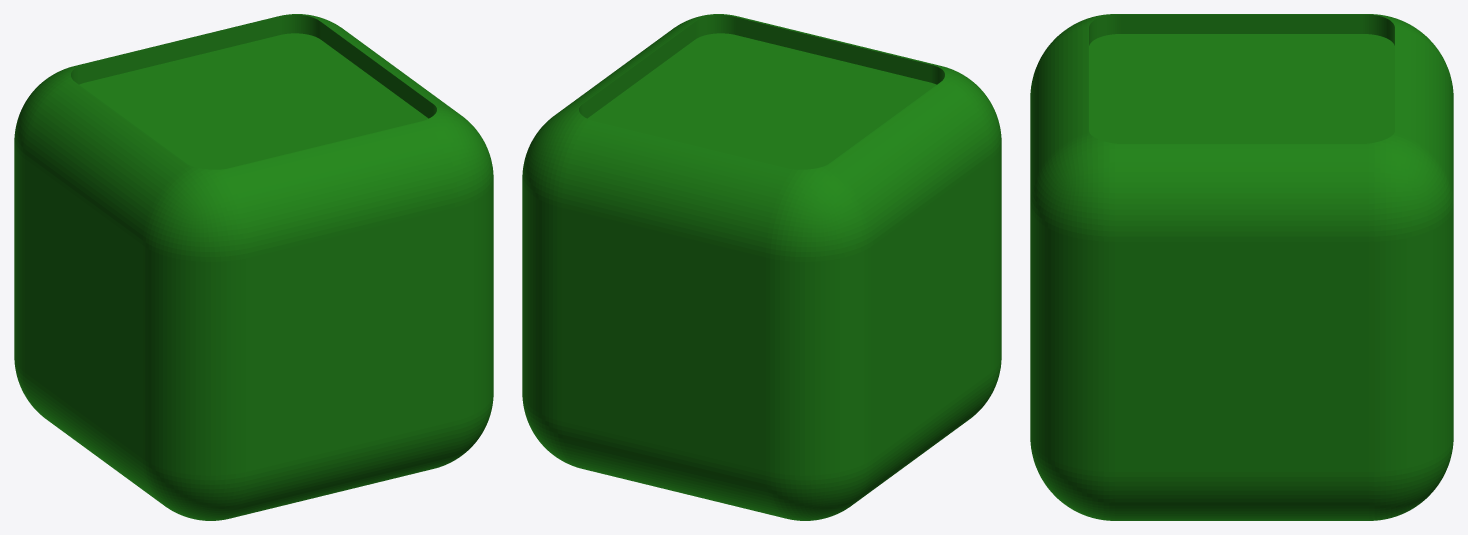
3 views of the same model, side by side, from view 1: azimuth 30°, elevation 25°; view 2: azimuth 150°, elevation 25°; view 3: azimuth 270°, elevation 25° (orthographic). The views are drawn at different scales.
Parts seen in each view (by area): view 1: Cube; view 2: Cube; view 3: Cube.
Boxes of the visible parts, <box> form: Cube: <box>14,14,493,520</box>; Cube: <box>522,14,1001,520</box>; Cube: <box>1030,14,1453,520</box>.
Bounding box in the file's own units: 2 × 1.98 × 2.
